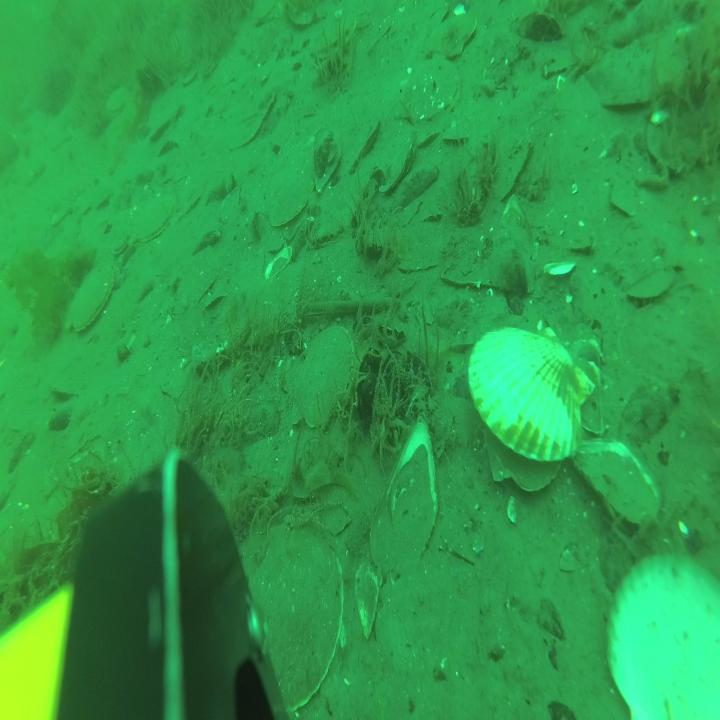scallop: (471, 316, 594, 485), (289, 322, 361, 430), (399, 58, 464, 127), (68, 261, 115, 340), (268, 175, 316, 233), (431, 12, 480, 64), (629, 262, 678, 306), (134, 190, 176, 241), (376, 135, 413, 190), (144, 95, 182, 139), (350, 118, 380, 168), (104, 224, 130, 264), (443, 112, 470, 150), (418, 115, 440, 144)
